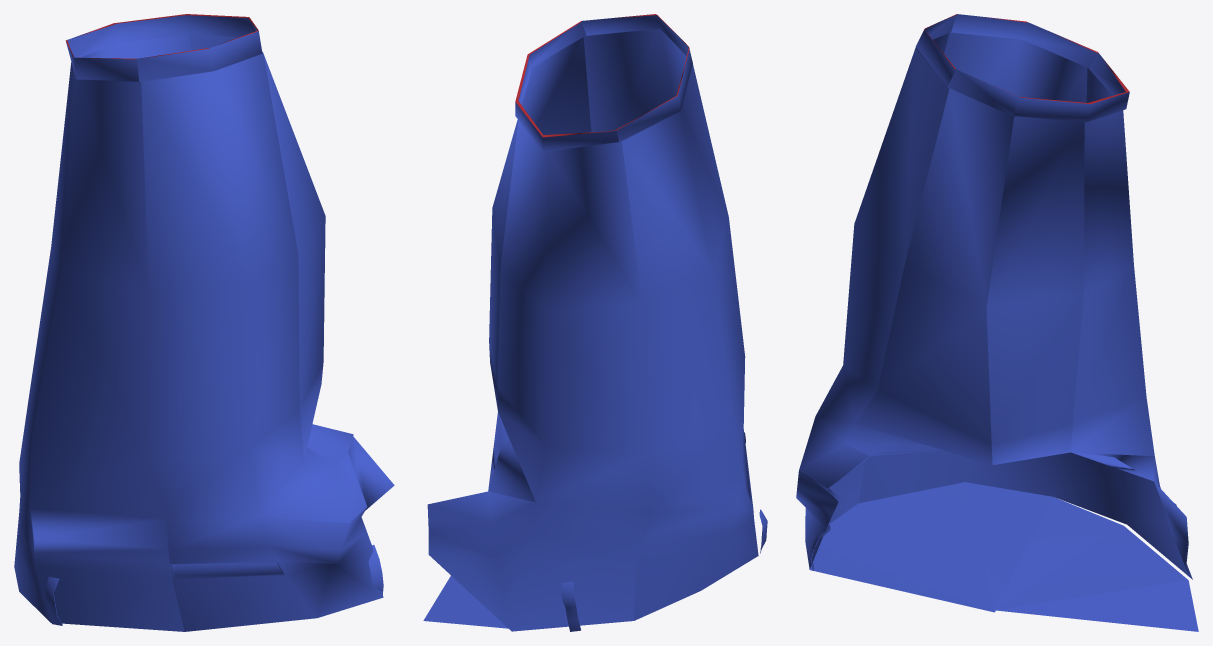
Rendered from left_up_leg.glb.
3 views of the same model, side by side, from view 1: azimuth 30°, elevation 25°; view 2: azimuth 150°, elevation 25°; view 3: azimuth 270°, elevation 25° (orthographic). The views are drawn at different scales.
Parts seen in each view (by area): view 1: shorts-blue_LEFT_UP_LEG; view 2: shorts-blue_LEFT_UP_LEG; view 3: shorts-blue_LEFT_UP_LEG.
Boxes of the visible parts, left/top/right/bottom form: shorts-blue_LEFT_UP_LEG: left=14, top=14, right=394, bottom=631; shorts-blue_LEFT_UP_LEG: left=423, top=14, right=767, bottom=631; shorts-blue_LEFT_UP_LEG: left=796, top=14, right=1198, bottom=631.
Bounding box in the file's own units: 0.2571 × 0.5018 × 0.3315.
1 material, 1 textured.
